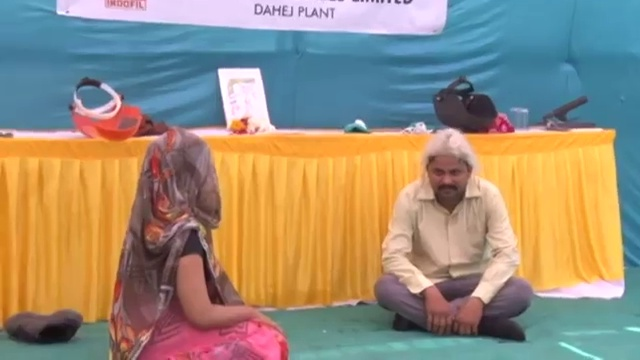helmet_off: (136, 131, 221, 230), (424, 131, 474, 202)
person: (102, 126, 293, 360), (373, 127, 535, 344)
